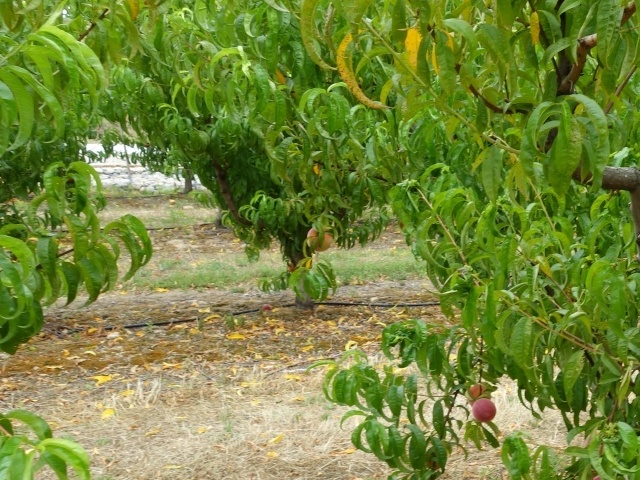peach: (304, 225, 335, 255), (470, 396, 499, 425), (467, 379, 494, 408)
